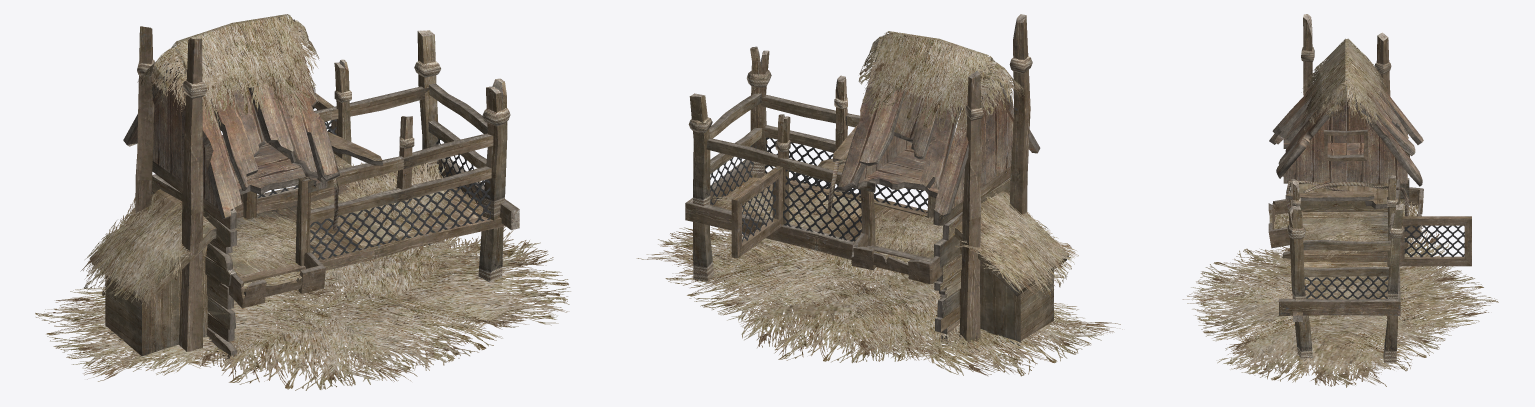
The model's file is bg_atm_leonhart_henhouse01_sm_kdh.FBX.
The picture shows the model from 3 angles, left to right: view 1: azimuth 30°, elevation 25°; view 2: azimuth 150°, elevation 25°; view 3: azimuth 270°, elevation 25°; orthographic projection. The views are drawn at different scales.
Parts seen in each view (by area): view 1: bg_atm_leonhart_henhouse01_sm_kdh; view 2: bg_atm_leonhart_henhouse01_sm_kdh; view 3: bg_atm_leonhart_henhouse01_sm_kdh.
Boxes of the visible parts, box(x1,y1,x2,y2) form: bg_atm_leonhart_henhouse01_sm_kdh: box(35, 14, 570, 390); bg_atm_leonhart_henhouse01_sm_kdh: box(636, 14, 1122, 376); bg_atm_leonhart_henhouse01_sm_kdh: box(1182, 14, 1498, 387).
Size of the model in its own units: 353 by 215 by 282.
